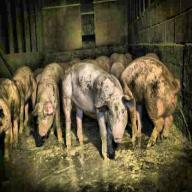boar: (0, 54, 180, 162)
